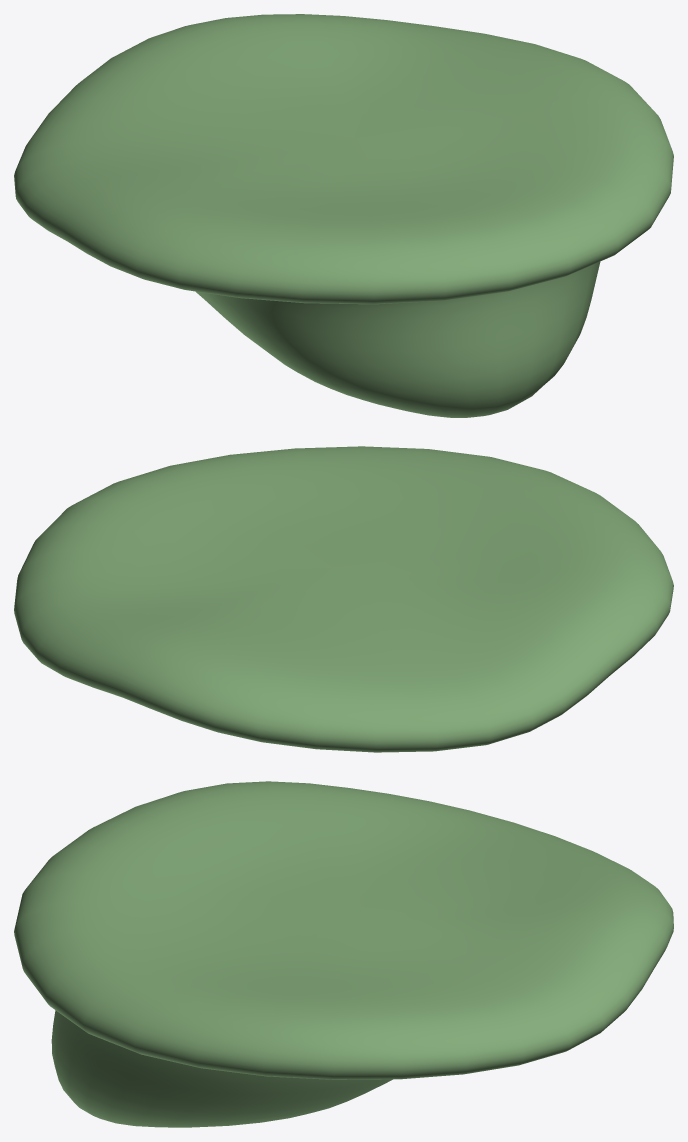
The model's file is Hongo_5.fbx.
3 renders of one model, top to bottom at view 1: azimuth 30°, elevation 25°; view 2: azimuth 150°, elevation 25°; view 3: azimuth 270°, elevation 25°, orthographic.
Parts seen in each view (by area): view 1: Hongo_5; view 2: Hongo_5; view 3: Hongo_5.
Part boxes in pixels (x1=…): Hongo_5: x1=14, y1=14, x2=673, y2=417; Hongo_5: x1=14, y1=446, x2=673, y2=752; Hongo_5: x1=14, y1=781, x2=673, y2=1127.
Bounding box in the file's own units: 1.43 × 0.5154 × 1.45.
